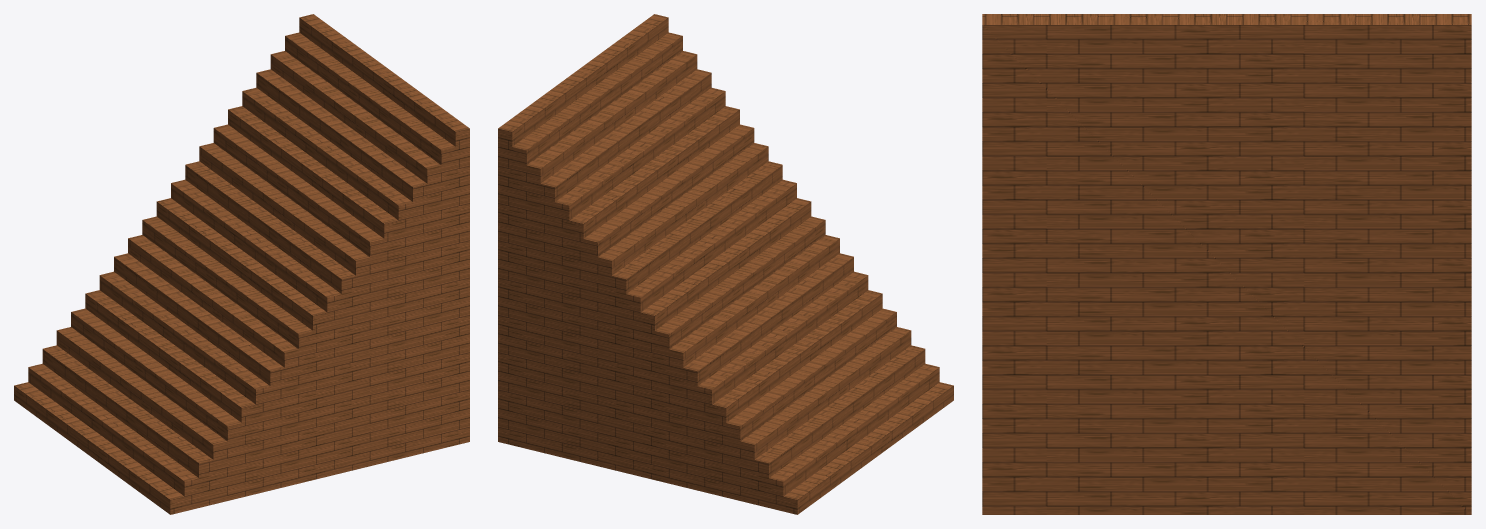
Rendered from Escalera.fbx.
3 views of the same model, side by side, from view 1: azimuth 30°, elevation 25°; view 2: azimuth 150°, elevation 25°; view 3: azimuth 270°, elevation 25° (orthographic). The views are drawn at different scales.
Parts seen in each view (by area): view 1: Escalera; view 2: Escalera; view 3: Escalera.
Boxes of the visible parts, x1,y1,x2,y2 form: Escalera: (14, 14, 469, 514); Escalera: (498, 14, 953, 514); Escalera: (982, 14, 1471, 514).
Size of what is drawn, in the model's own units: 380 by 420 by 420.
